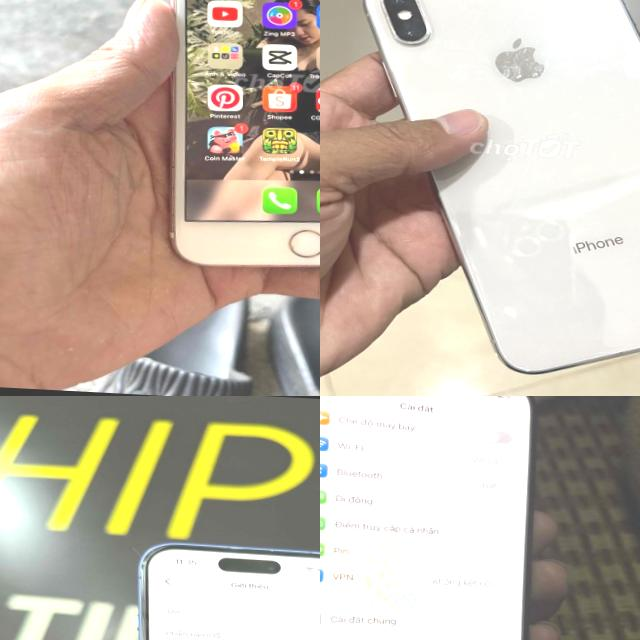gen_15: (320, 396, 557, 640)
gen_16: (138, 544, 320, 640)
gen_7_8: (138, 0, 320, 282)
gen_x_xs: (320, 0, 640, 396)
scratch: (471, 0, 640, 91), (280, 222, 320, 262)
